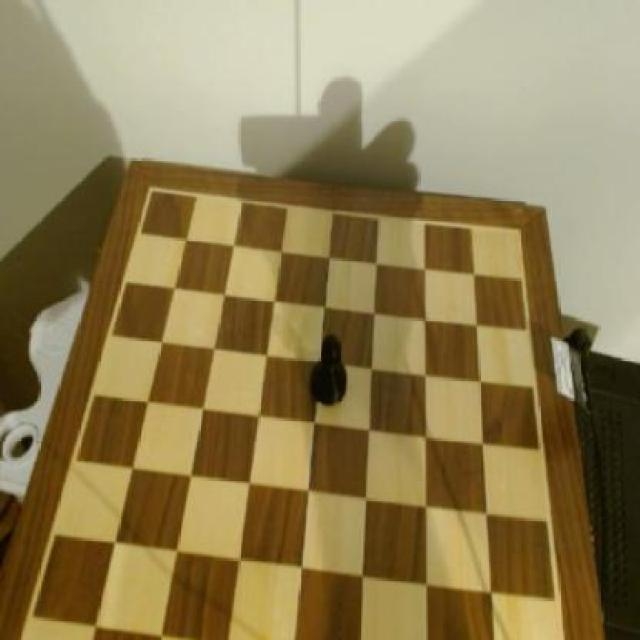black-knight: (309, 330, 353, 408)
